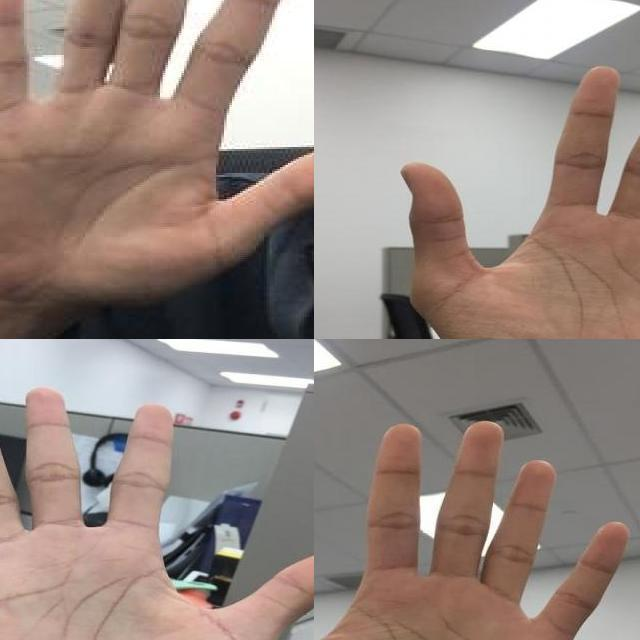hand: (0, 0, 314, 305), (0, 388, 314, 640), (314, 417, 639, 640), (399, 61, 640, 339)
